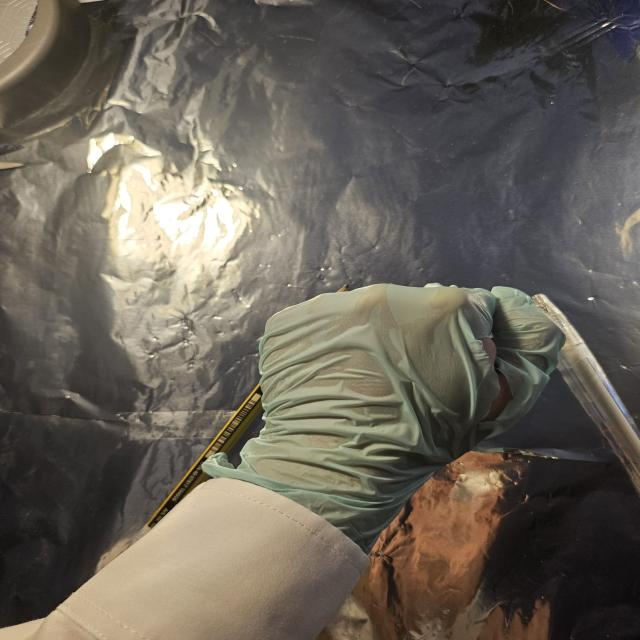gloves_damaged: (233, 278, 569, 550)
